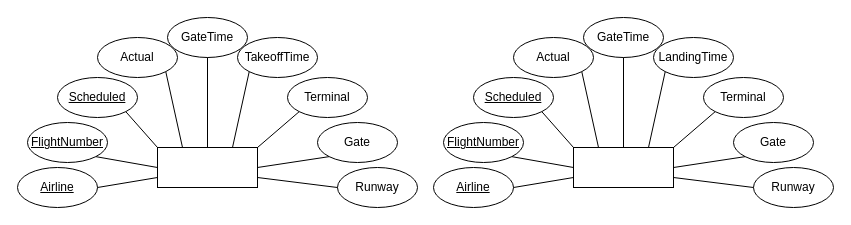
Some shapes in this 851 by 225 pixel diagram are drawn without their labels. The shapes that lost their labels are listed below. From the top down, each one's centre as x and y in pixels, then its label:
At point 207,167: "Airport3 Departures".
At point 623,167: "Airport3 Arrivals".
